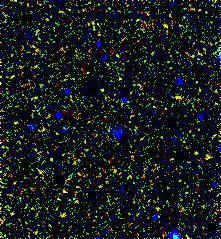star: (194, 144, 221, 174)
